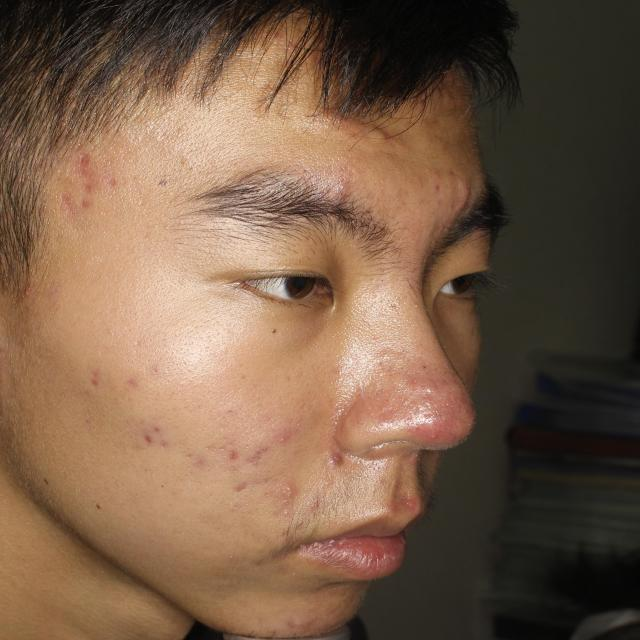acne: (264, 474, 308, 511), (53, 186, 101, 219), (443, 171, 478, 214), (131, 417, 166, 459), (64, 147, 102, 183), (360, 119, 396, 153), (271, 424, 300, 454), (223, 439, 250, 471), (280, 608, 313, 634), (246, 441, 272, 469), (325, 178, 364, 194)
